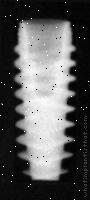Nobel Biocare: (14, 20, 76, 182)
